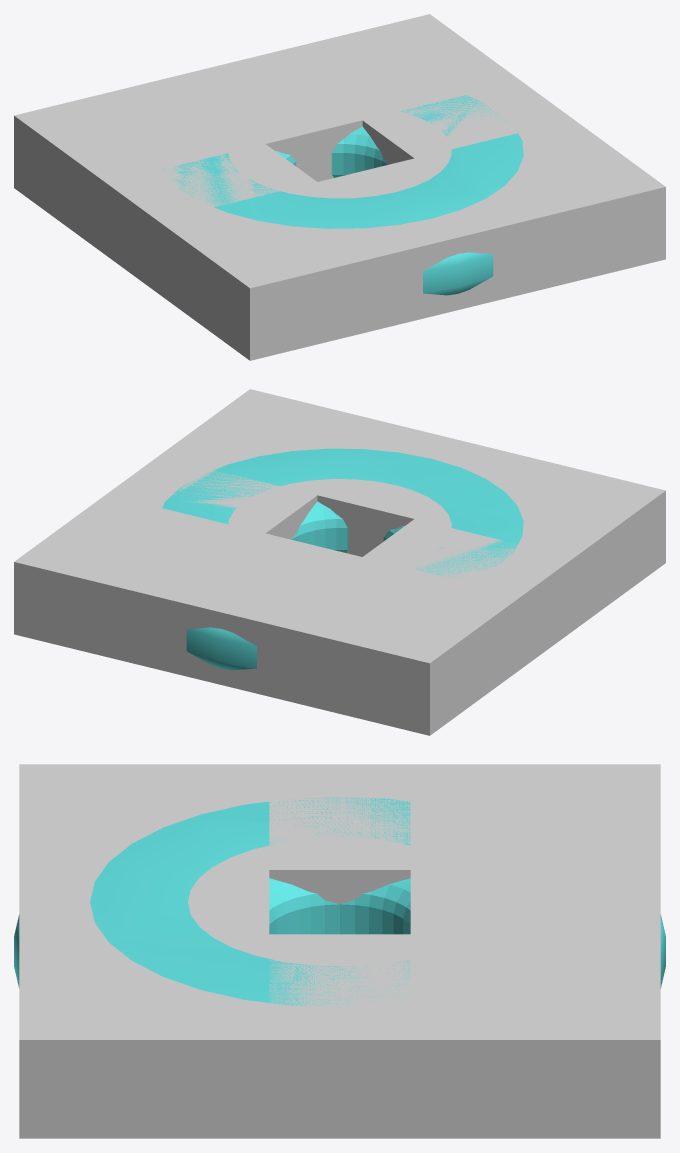
Rendered from Scheibe3.fbx.
3 renders of one model, top to bottom at view 1: azimuth 30°, elevation 25°; view 2: azimuth 150°, elevation 25°; view 3: azimuth 270°, elevation 25°, orthographic. The views are drawn at different scales.
Parts seen in each view (by area): view 1: Cube_34, Cube_33, Scheibe 3, Cube_31, Cube_32; view 2: Cube_33, Cube_34, Scheibe 3, Cube_31, Cube_32; view 3: Cube_33, Cube_34, Scheibe 3, Cube_32, Cube_31.
Part boxes in pixels (x1,y1,x2,y2): Cube_34: (158,119,665,360); Cube_33: (14,14,521,254); Scheibe 3: (162,95,523,295); Cube_31: (106,144,316,292); Cube_32: (362,81,573,164); Cube_33: (14,494,521,735); Cube_34: (158,389,665,629); Scheibe 3: (162,448,523,670); Cube_31: (363,519,573,667); Cube_32: (106,456,317,539); Cube_33: (410,764,660,1138); Cube_34: (19,764,269,1138); Scheibe 3: (14,797,665,1007); Cube_32: (269,934,410,1138); Cube_31: (269,764,410,904).
Bounding box in the file's own units: 60 × 10 × 60.
